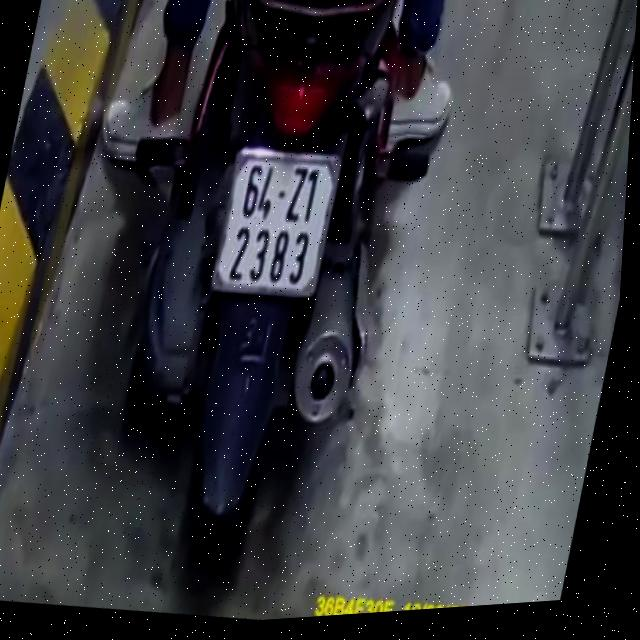motorcycle: (81, 0, 453, 585)
plate: (206, 137, 346, 308)
